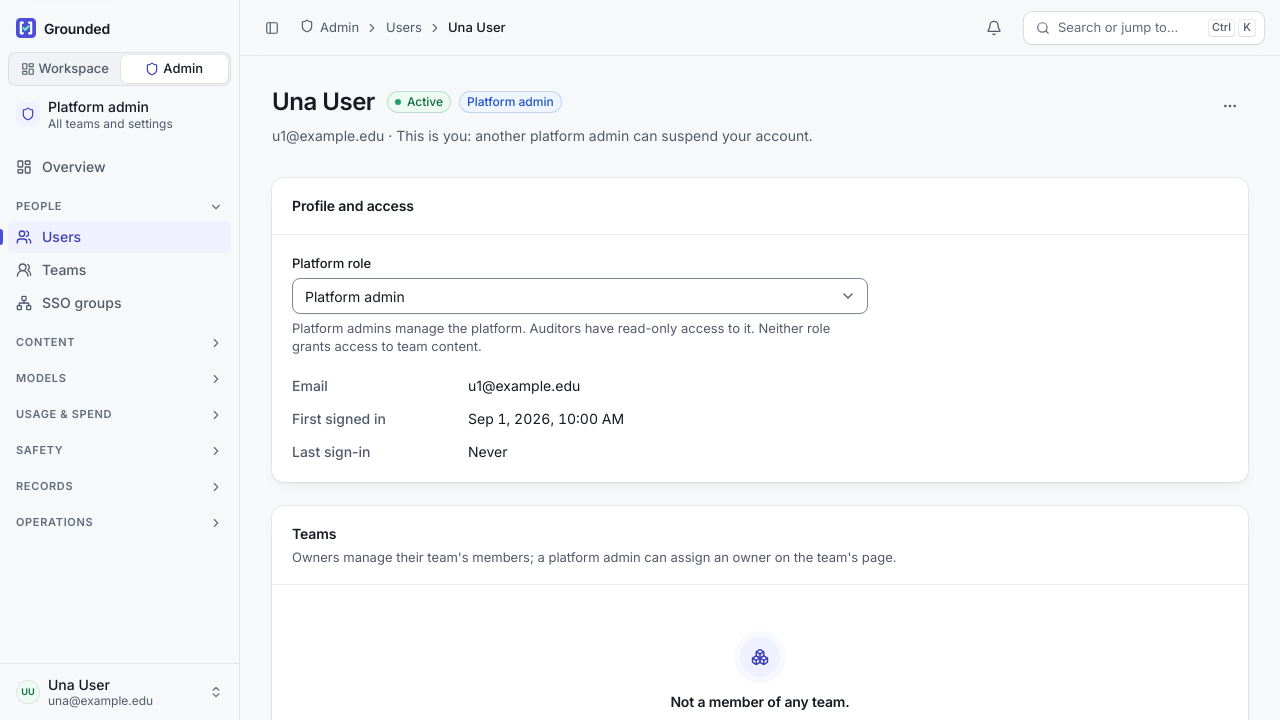
Test: platform role (Q2, F-03) › doesn't let an admin suspend themselves (P-04)
# Suspend is a menu action (Q12), disabled with the reason.
Click the button named "More actions" at (1230, 106), box 1212,88 -> 1248,124
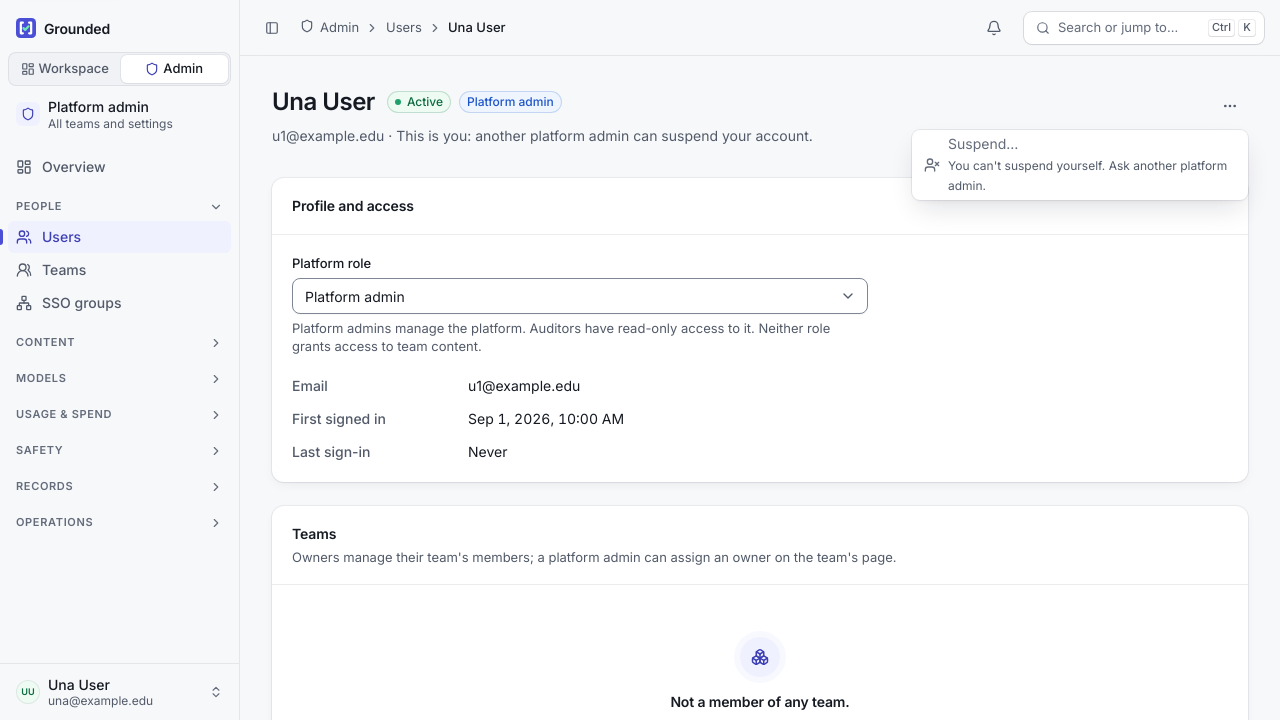
Expected: the text "This is you" is shown, 272,127 -> 813,144
Result: the menu item "Suspend" shows "You can't suspend yourself" at 916,134 -> 1244,196
